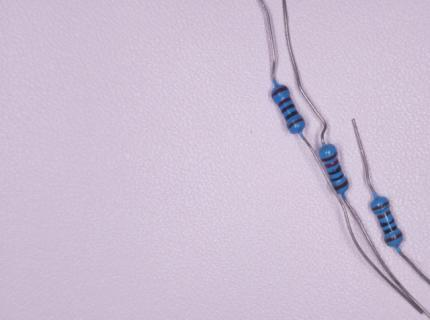Black band: (284, 110, 299, 121), (383, 225, 398, 235), (380, 218, 395, 228), (281, 103, 295, 113)
Brown band: (385, 232, 403, 243), (372, 200, 390, 211), (287, 117, 303, 129), (271, 86, 288, 97), (278, 97, 291, 107), (378, 210, 391, 220)
